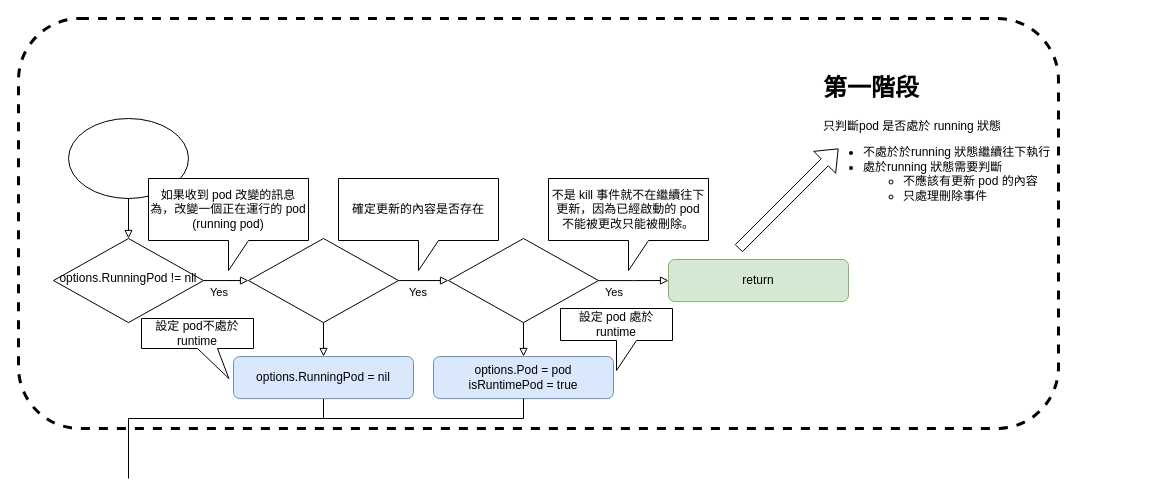
Image size: 1150x497. Some labels were removed from this diagram. The shapes that lost their labels are listed below. From the top down, each one's centre as x and y in pixels, then its label:
At (128,158): "UpdatePod".
At (323,280): "options.Pod == nil".
At (523,280): "options.UpdateType != kubetypes.SyncPodKill".
